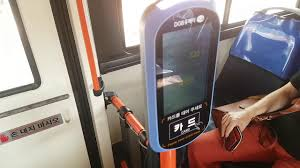terminal: (136, 1, 219, 156)
